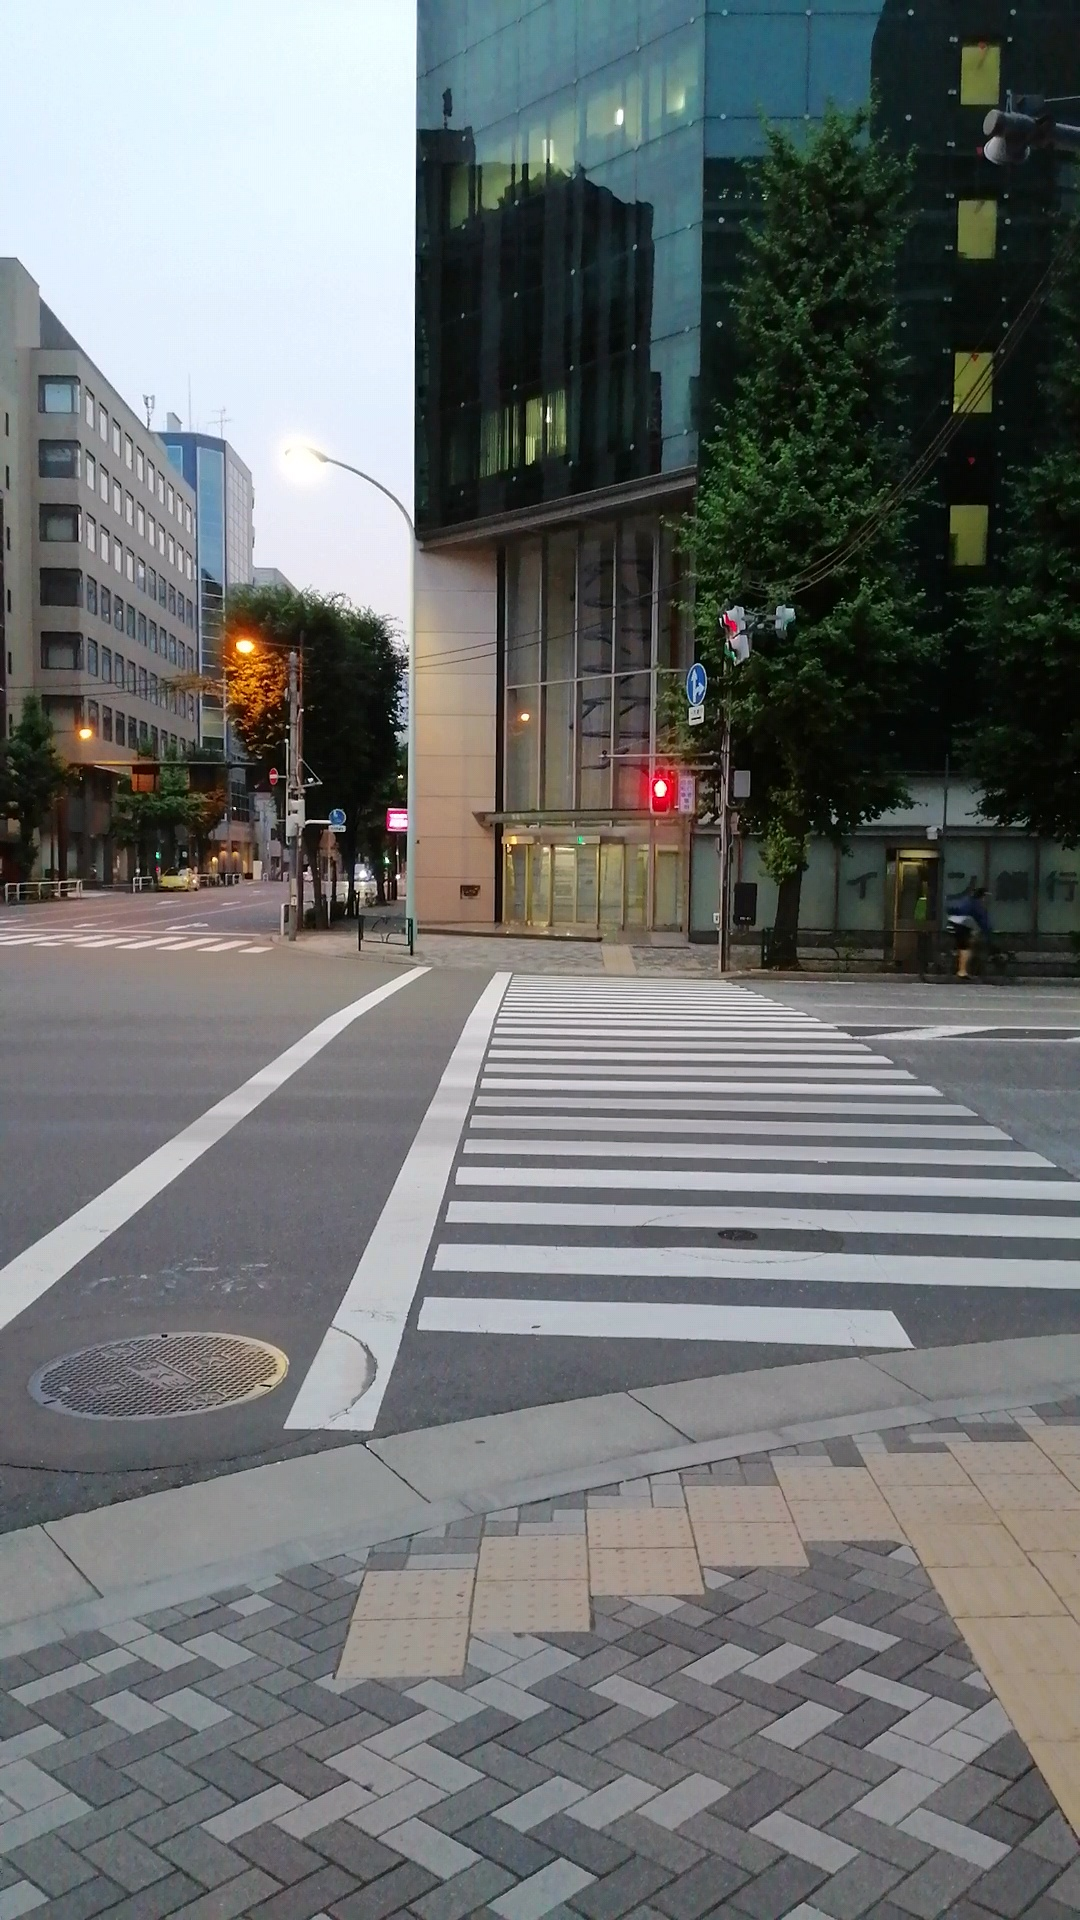red: (645, 771, 676, 818)
